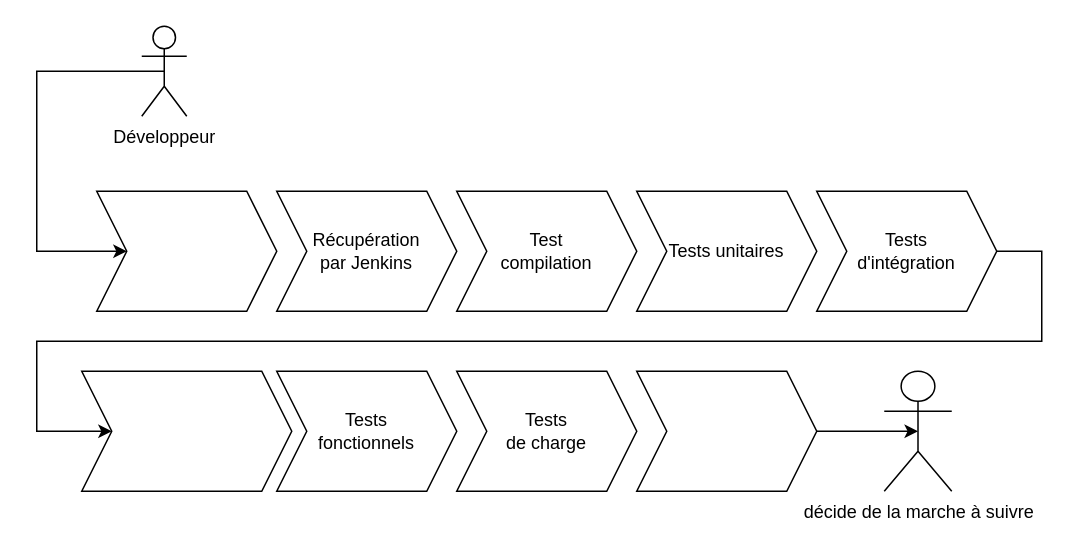
Image size: 1080x549. Some labels were removed from this diagram. The centre of each missing label's shape, as x and y in pixels:
Déploiement dans environnement de développement: the point at 186,430
Pousse le code sur Github: the point at 186,250
Tests de fiabilité: the point at 726,430
